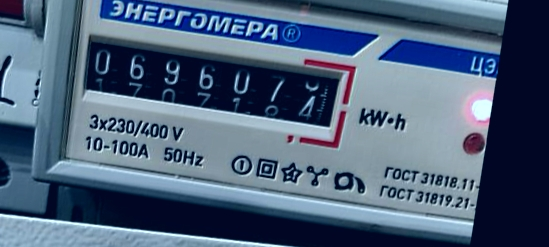0: (89, 46, 115, 79), (230, 67, 253, 98)
4: (294, 92, 317, 124)
6: (194, 61, 219, 95), (125, 51, 148, 83)
7: (264, 71, 287, 105)
9: (160, 57, 184, 89)
screen: (66, 17, 360, 152)
